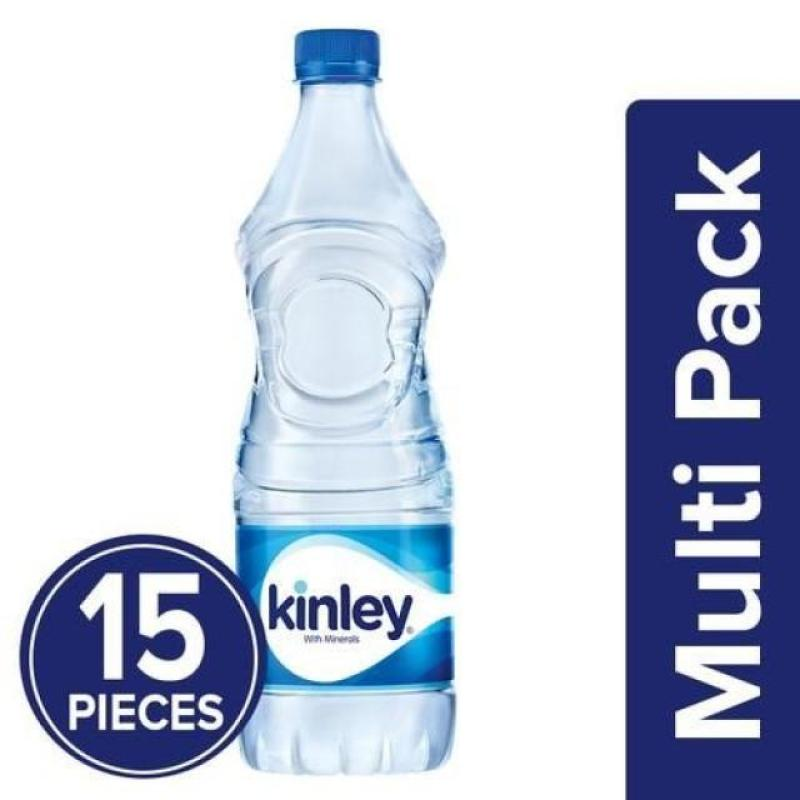botella: (236, 29, 460, 778)
